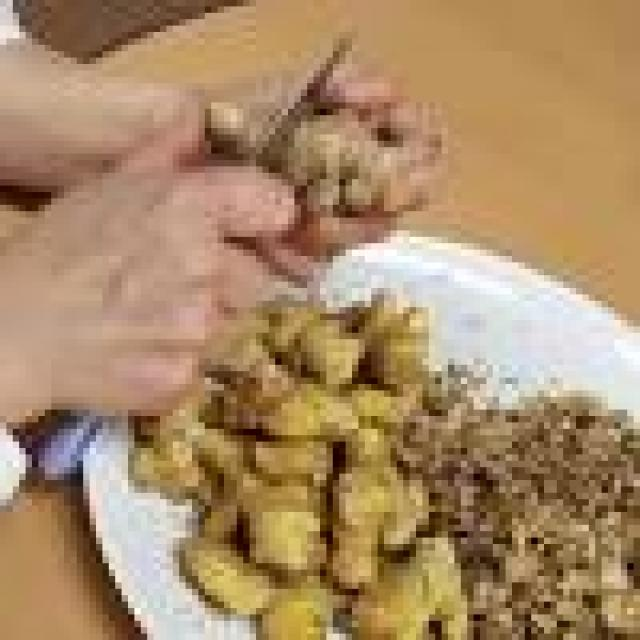ginger: (148, 272, 442, 640)
